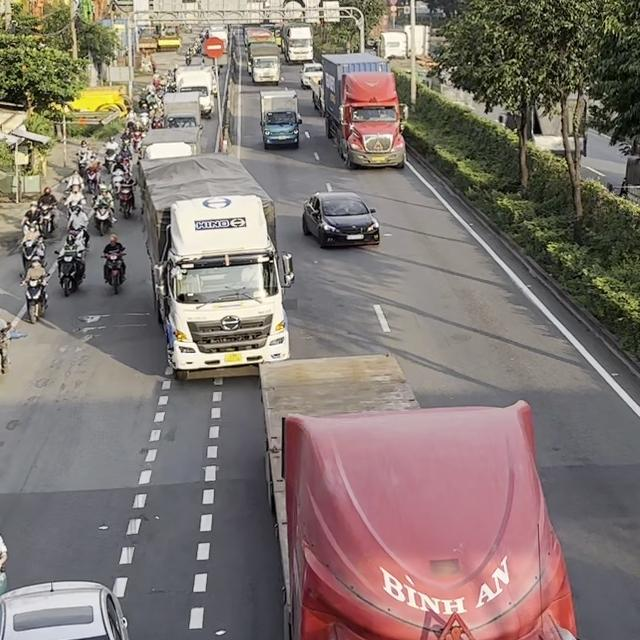car: (0, 579, 130, 639), (301, 182, 380, 248), (299, 62, 322, 89)
motorcycle: (19, 271, 51, 323), (54, 247, 87, 297), (18, 235, 46, 278), (100, 249, 126, 294), (92, 200, 116, 236), (117, 183, 135, 218)
truck: (259, 352, 580, 639), (135, 151, 295, 380), (318, 52, 408, 169), (258, 87, 302, 149), (173, 65, 217, 119), (160, 91, 202, 128), (246, 41, 281, 85), (280, 22, 313, 64)
